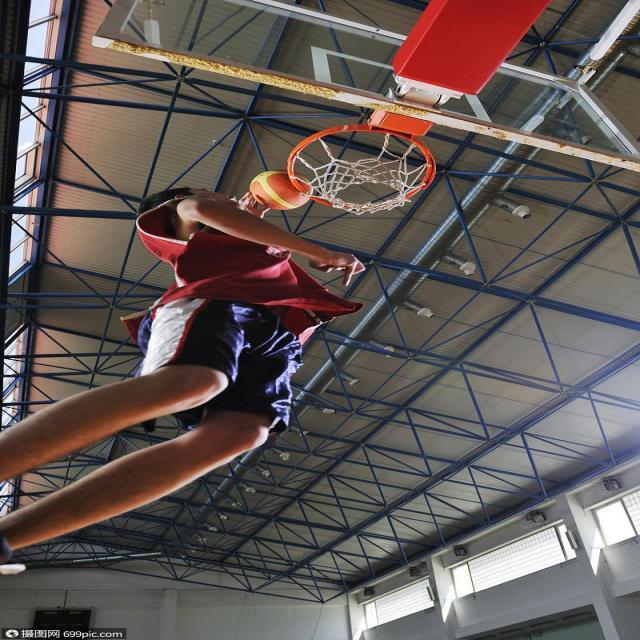rim: (248, 170, 310, 210)
